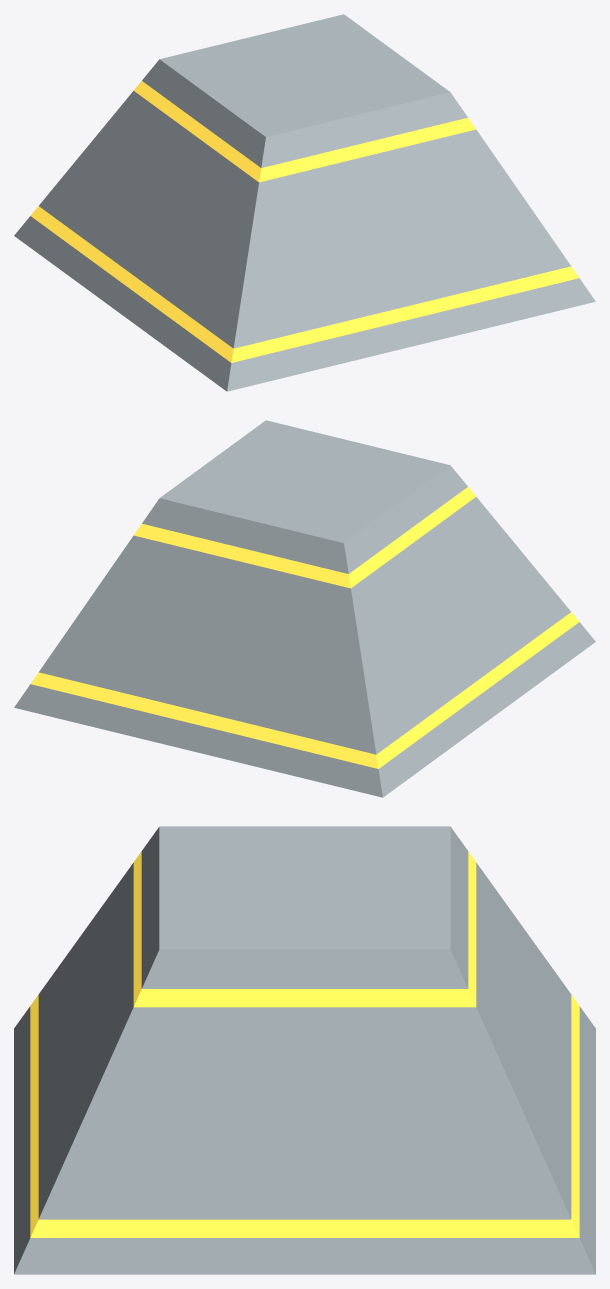
Rendered from SM_Trapezoid_V0_1.fbx.
3 renders of one model, top to bottom at view 1: azimuth 30°, elevation 25°; view 2: azimuth 150°, elevation 25°; view 3: azimuth 270°, elevation 25°, orthographic. The views are drawn at different scales.
Parts seen in each view (by area): view 1: SM_Trapezoid_V0_1; view 2: SM_Trapezoid_V0_1; view 3: SM_Trapezoid_V0_1.
Boxes of the visible parts, x1,y1,x2,y2 form: SM_Trapezoid_V0_1: (14,14,595,391); SM_Trapezoid_V0_1: (14,420,595,797); SM_Trapezoid_V0_1: (14,826,595,1274).
Bounding box in the file's own units: 2 × 1 × 2.
